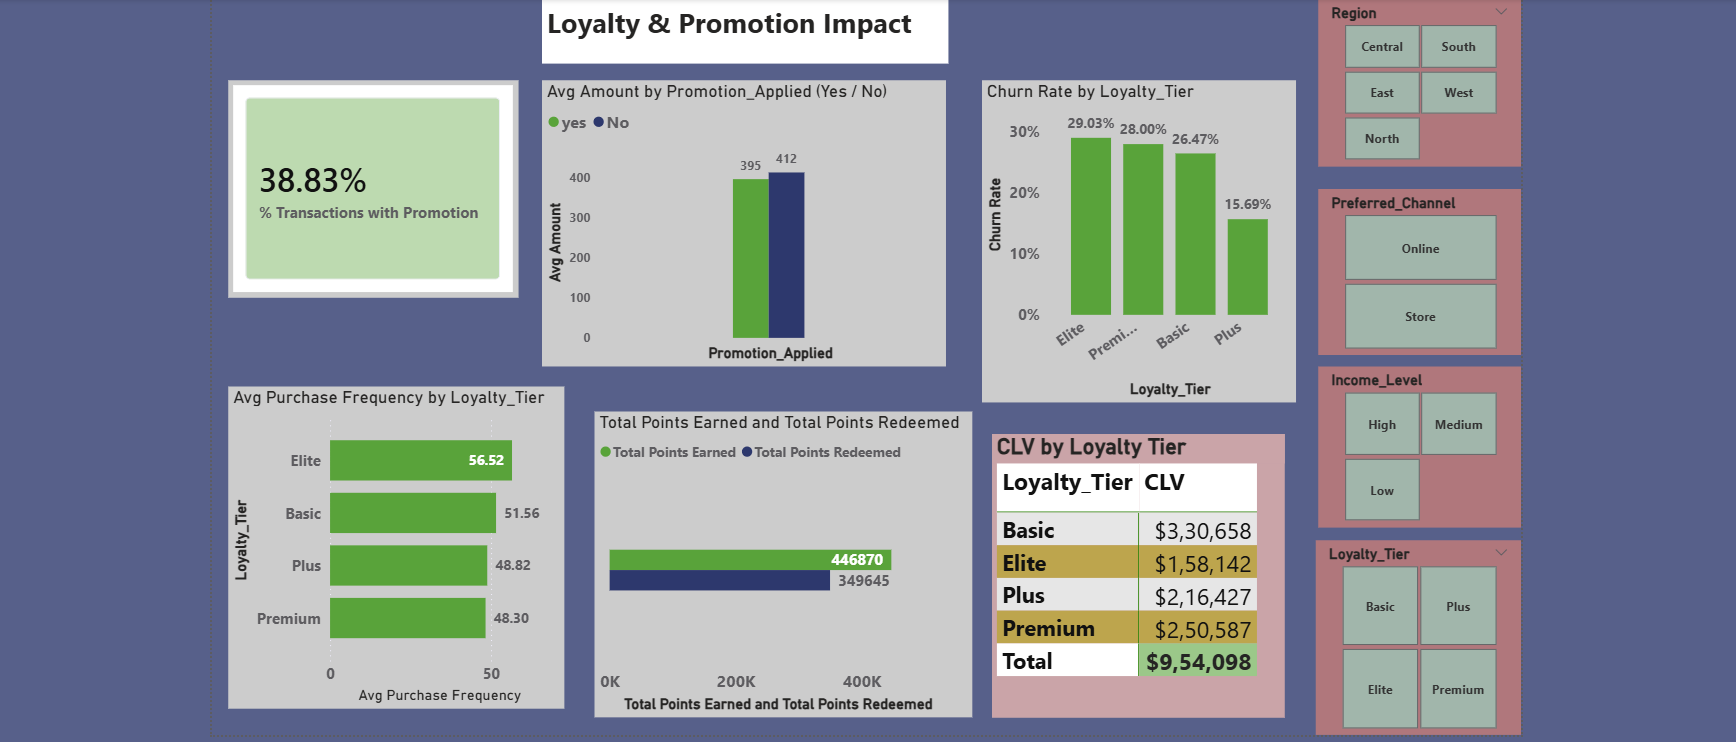

The page's visual inventory and layout, read from the dashboard file:
{"tool":"powerbi","page":{"name":"Loyalty & Promotion Impact","canvas":[1280,720],"ordinal":6},"visuals":[{"type":"cardVisual","fields":{"Data":["measures .% Transactions with Promotion"]},"box":[15.9,79.5,283.7,212.8],"z":0},{"type":"clusteredColumnChart","title":"Avg Amount by Promotion_Applied (Yes / No)","fields":{"Y":["measures .Avg Amount (With Promotion)","measures .Avg Amount (Without Promotion)"]},"box":[322.8,79.5,395,280],"z":1000},{"type":"clusteredBarChart","fields":{"Y":["measures .Avg Purchase Frequency"],"Category":["Loyalty_Program.Loyalty_Tier"]},"box":[15.9,379.1,328.9,315.5],"z":2000},{"type":"clusteredBarChart","fields":{"Y":["measures .Total Points Earned","measures .Total Points Redeemed"]},"box":[374.2,403.5,369.3,299.6],"z":3000},{"type":"clusteredColumnChart","fields":{"Y":["measures .Churn Rate"],"Category":["Loyalty_Program.Loyalty_Tier"]},"box":[753.3,79.5,306.9,315.5],"z":4000},{"type":"pivotTable","title":"CLV by Loyalty Tier","fields":{"Values":["measures .CLV"],"Rows":["Loyalty_Program.Loyalty_Tier"]},"box":[763.7,426.1,286.4,277.8],"z":5000},{"type":"slicer","fields":{"Values":["Customer_Demographics.Region"]},"box":[1082.2,0,198.1,163.9],"z":6000},{"type":"slicer","fields":{"Values":["Customer_Demographics.Income_Level"]},"box":[1082.2,359.5,198.1,157.7],"z":7000},{"type":"textbox","box":[322.8,0,397.4,63.6],"z":8000},{"type":"slicer","fields":{"Values":["Loyalty_Program.Loyalty_Tier"]},"box":[1079.8,529.5,200.5,190.8],"z":9000},{"type":"slicer","fields":{"Values":["Customer_Demographics.Preferred_Channel"]},"box":[1082.2,185.9,198.1,162.6],"z":10000}]}

Visuals, with their boxes on the page's 1280x720 design canvas (x1, y1, x2, y2). These are canvas units, not pixel positions in the 1736x742 screenshot, which may show the page scaled, cropped or inside an application window:
cardVisual - measures .% Transactions with Promotion: Rect(16, 80, 300, 292)
"Avg Amount by Promotion_Applied (Yes / No)" clusteredColumnChart: Rect(323, 80, 718, 360)
clusteredBarChart - measures .Avg Purchase Frequency x Loyalty_Program.Loyalty_Tier: Rect(16, 379, 345, 695)
clusteredBarChart - measures .Total Points Earned x measures .Total Points Redeemed: Rect(374, 404, 744, 703)
clusteredColumnChart - measures .Churn Rate x Loyalty_Program.Loyalty_Tier: Rect(753, 80, 1060, 395)
"CLV by Loyalty Tier" pivotTable: Rect(764, 426, 1050, 704)
slicer - Customer_Demographics.Region: Rect(1082, 0, 1280, 164)
slicer - Customer_Demographics.Income_Level: Rect(1082, 360, 1280, 517)
textbox: Rect(323, 0, 720, 64)
slicer - Loyalty_Program.Loyalty_Tier: Rect(1080, 530, 1280, 720)
slicer - Customer_Demographics.Preferred_Channel: Rect(1082, 186, 1280, 348)
